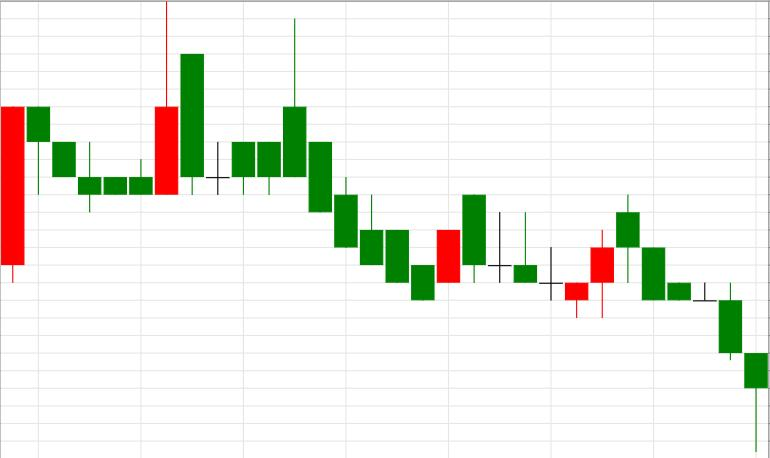bullish_engulfing_rise: (27, 2, 178, 213)
hammer_rise: (617, 196, 768, 453)
